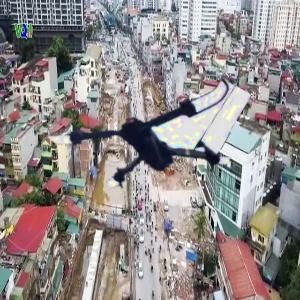drone: (54, 47, 233, 226)
